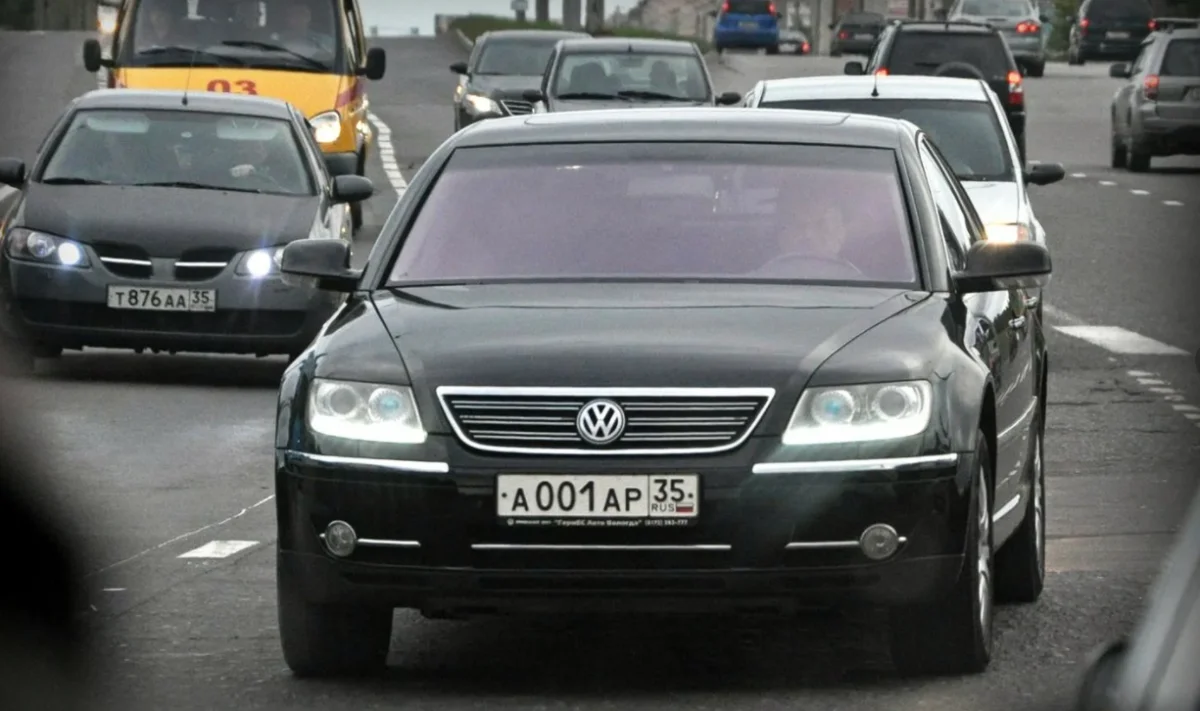number_plate: (496, 474, 711, 522), (108, 286, 213, 313)
